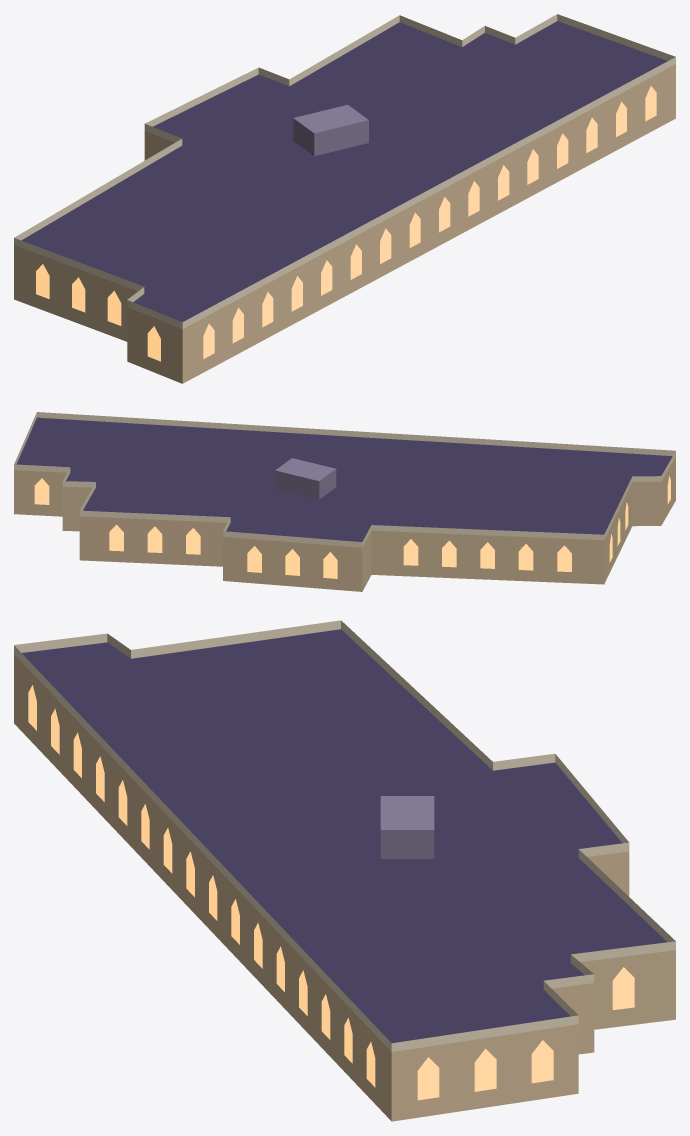
3 renders of one model, top to bottom at view 1: azimuth 30°, elevation 25°; view 2: azimuth 150°, elevation 25°; view 3: azimuth 270°, elevation 25°, orthographic. The views are drawn at different scales.
Visible parts, largest first — view 1: campus/b-041-0; view 2: campus/b-041-0; view 3: campus/b-041-0.
Boxes of the visible parts, <box> form: campus/b-041-0: <box>14,14,675,383</box>; campus/b-041-0: <box>14,412,675,591</box>; campus/b-041-0: <box>14,620,675,1121</box>.
Size of the model in its own units: 56.13 by 6.1 by 37.13.
